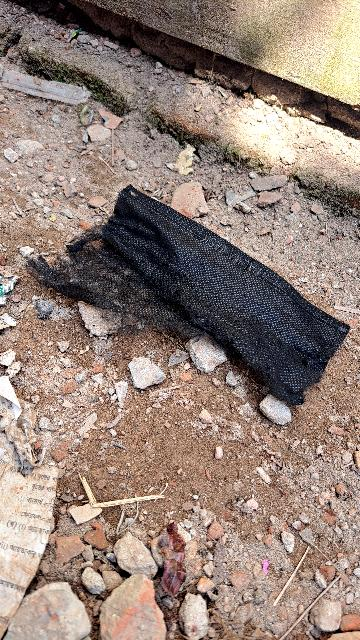mask: (76, 173, 356, 404)
